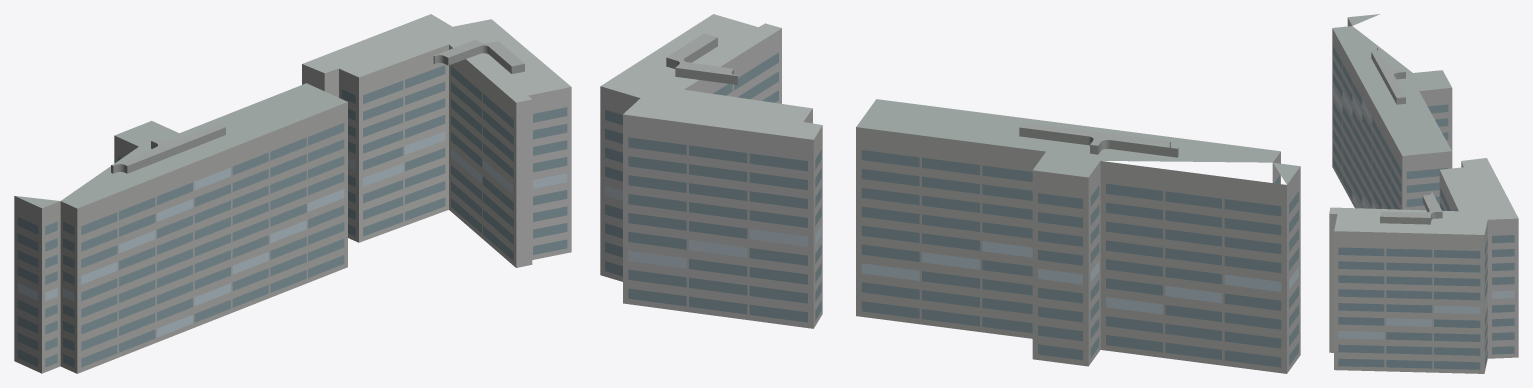
The model's file is apt-a10026849.glb.
3 views of the same model, side by side, from view 1: azimuth 30°, elevation 25°; view 2: azimuth 150°, elevation 25°; view 3: azimuth 270°, elevation 25° (orthographic). The views are drawn at different scales.
Visible parts, largest first — view 1: apt-a10026849; view 2: apt-a10026849; view 3: apt-a10026849.
Part boxes in pixels (left/top/right/bottom): apt-a10026849: left=14, top=14, right=571, bottom=373; apt-a10026849: left=600, top=14, right=1300, bottom=373; apt-a10026849: left=1329, top=14, right=1518, bottom=373.
Size of the model in its own units: 101 by 31 by 36.6.
